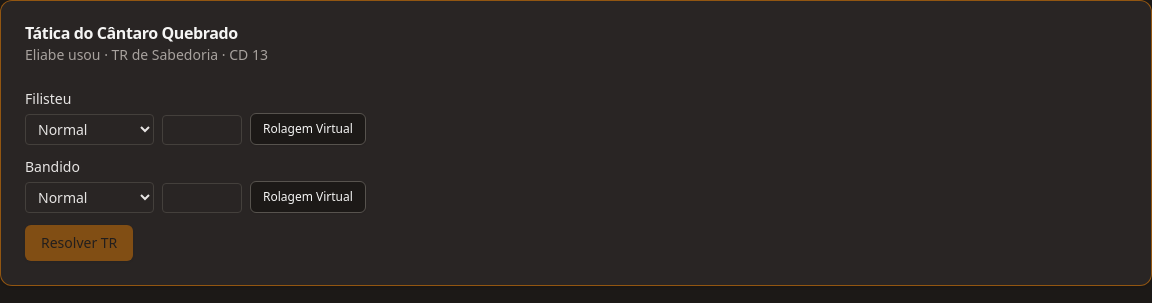
Test: AbilityPendingPanel › os extremos 1 valem
Type "7" into the number field named "d20 de Bandido" at (202, 198), box [162, 183, 242, 213]
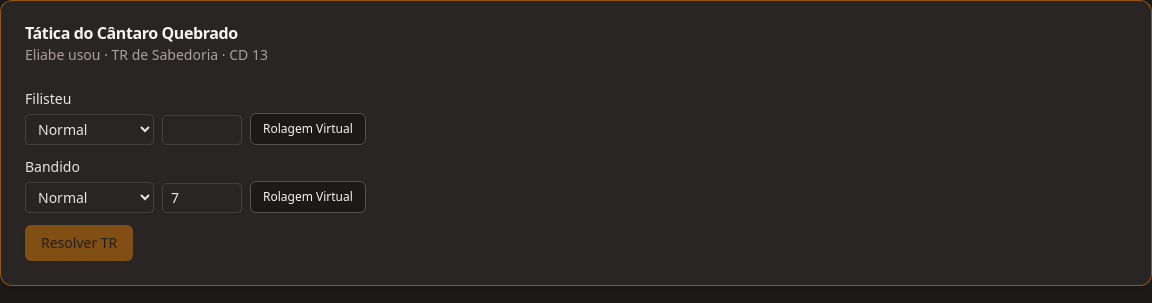
Type "1" into the number field named "d20 de Filisteu" at (202, 130), box [162, 115, 242, 145]
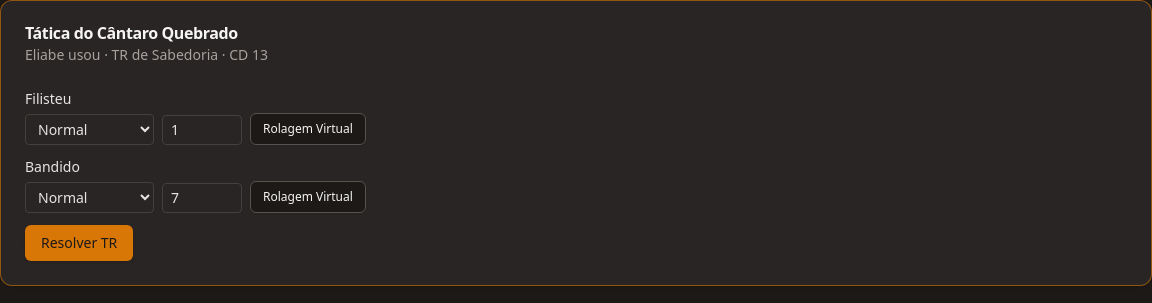
Expected: the button "Resolver TR" is enabled, [25, 225, 133, 261]
